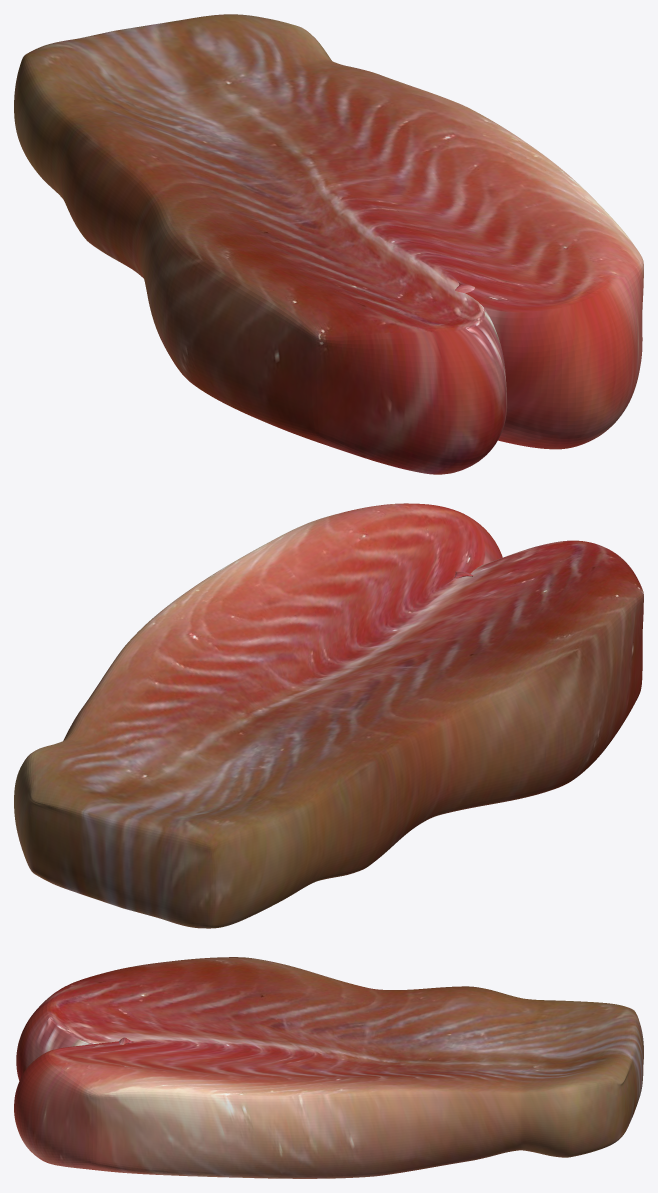
The model's file is RawFish.fbx.
3 renders of one model, top to bottom at view 1: azimuth 30°, elevation 25°; view 2: azimuth 150°, elevation 25°; view 3: azimuth 270°, elevation 25°, orthographic. The views are drawn at different scales.
Parts seen in each view (by area): view 1: RawFish; view 2: RawFish; view 3: RawFish.
Boxes of the visible parts, left/top/right/bottom form: RawFish: left=14, top=14, right=643, bottom=474; RawFish: left=14, top=503, right=643, bottom=928; RawFish: left=14, top=957, right=643, bottom=1178.
Bounding box in the file's own units: 417 × 168 × 758.
